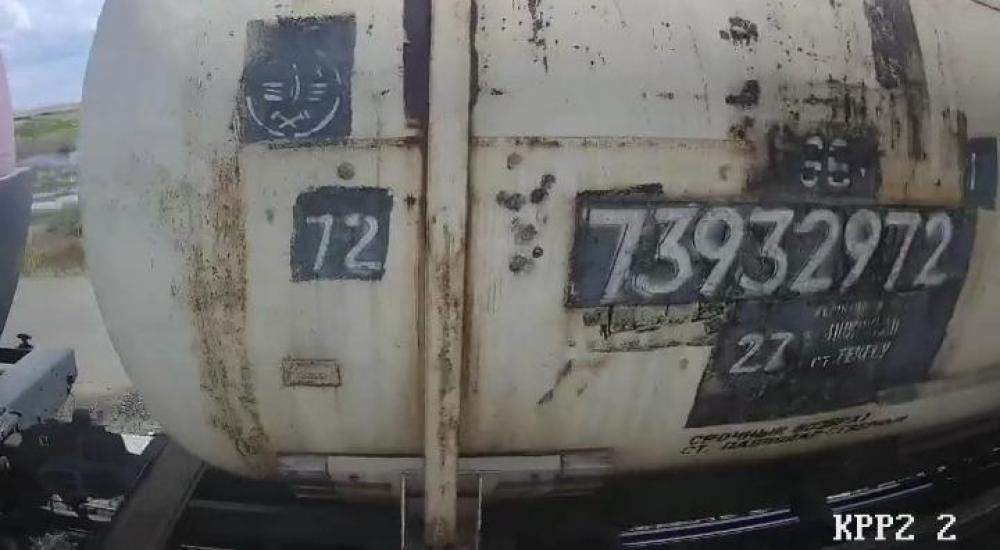Wagon-number: (575, 203, 956, 301)
